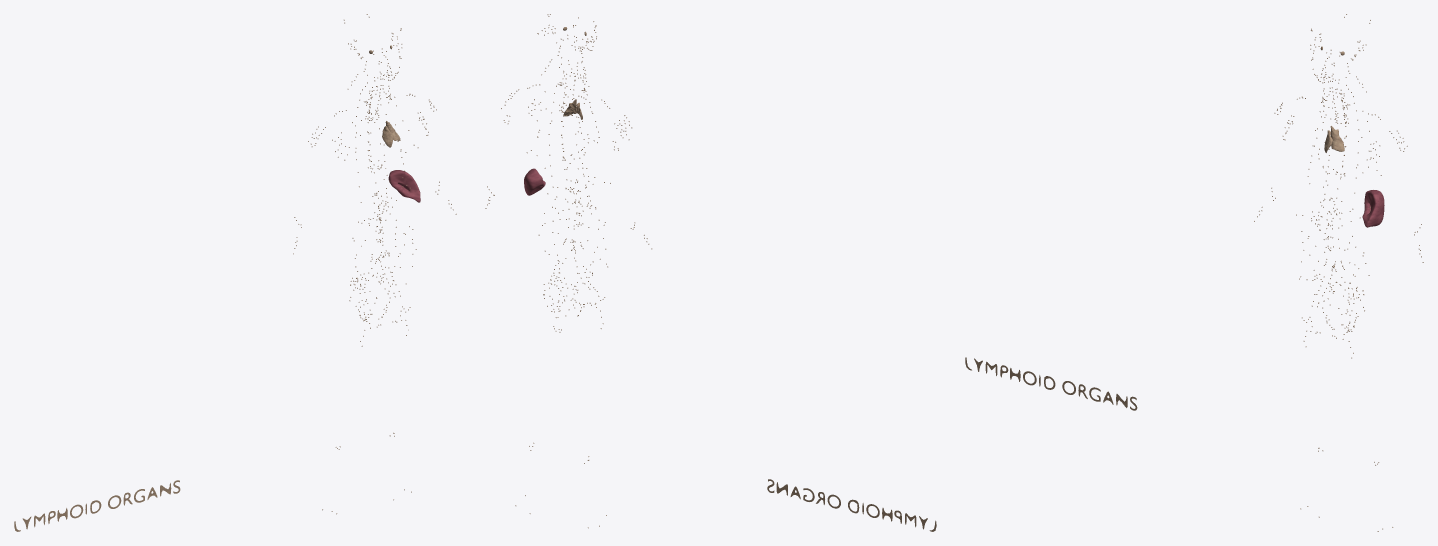
The model's file is lymphatic.glb.
3 views of the same model, side by side, from view 1: azimuth 30°, elevation 25°; view 2: azimuth 150°, elevation 25°; view 3: azimuth 330°, elevation 25° (orthographic). The views are drawn at different scales.
Parts seen in each view (by area): view 1: Lymphoid organs.g, Spleen; view 2: Lymphoid organs.g; view 3: Lymphoid organs.g, Spleen.
Part boxes in pixels (left/top/right/bottom): Lymphoid organs.g: left=14, top=480, right=180, bottom=531; Spleen: left=388, top=170, right=420, bottom=202; Lymphoid organs.g: left=767, top=479, right=936, bottom=531; Lymphoid organs.g: left=965, top=357, right=1137, bottom=410; Spleen: left=1362, top=190, right=1384, bottom=227.
Bounding box in the file's own units: 1.22 × 1.28 × 0.1962.
Materials: 2 (2 with a texture image).
